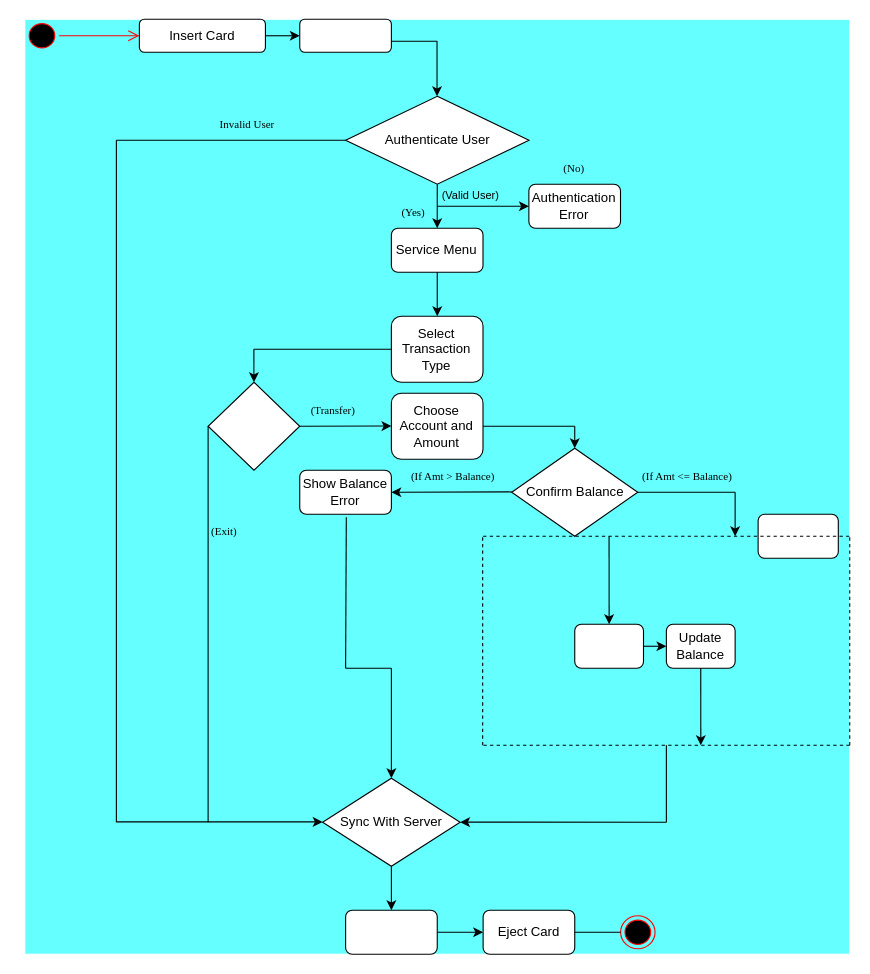
Some shapes in this 870 by 974 pixel diagram are drawn without their labels. The shapes that lost their labels are listed below. From the top down, each one's box as (x1, y1, x2, y2) in pixels, then its label:
(24, 18, 59, 52): Start
(299, 18, 391, 52): Enter Pin
(207, 381, 300, 470): Transactions
(757, 513, 838, 558): Server Execution
(574, 623, 644, 668): Withdraw
(345, 909, 437, 954): Print Receipt
